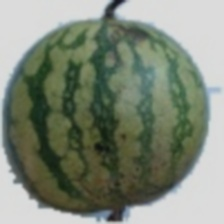watermelon: (32, 0, 198, 195)
